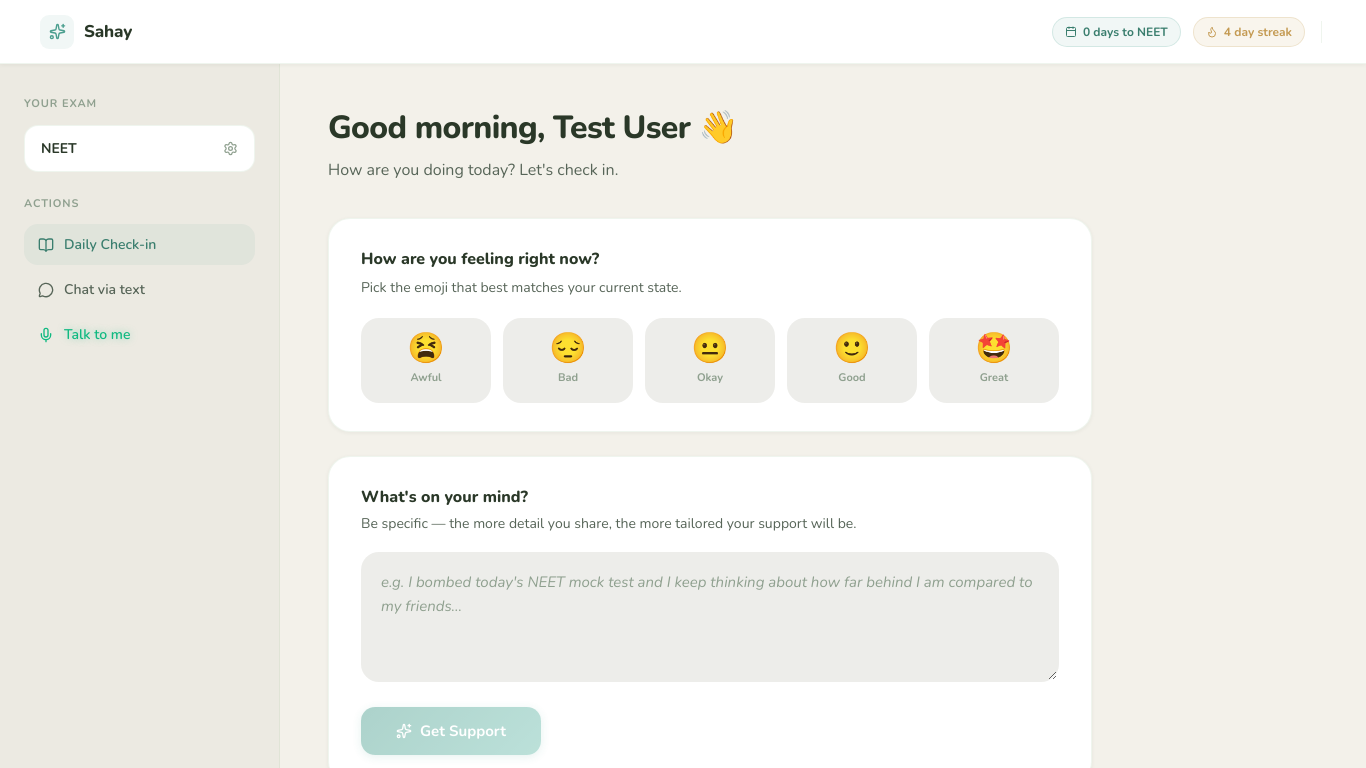
it: SahayApp Main Dashboard › handles clicking the Chat via text button
Click the button "Chat via text" at (140, 290), box [24,269,255,310]
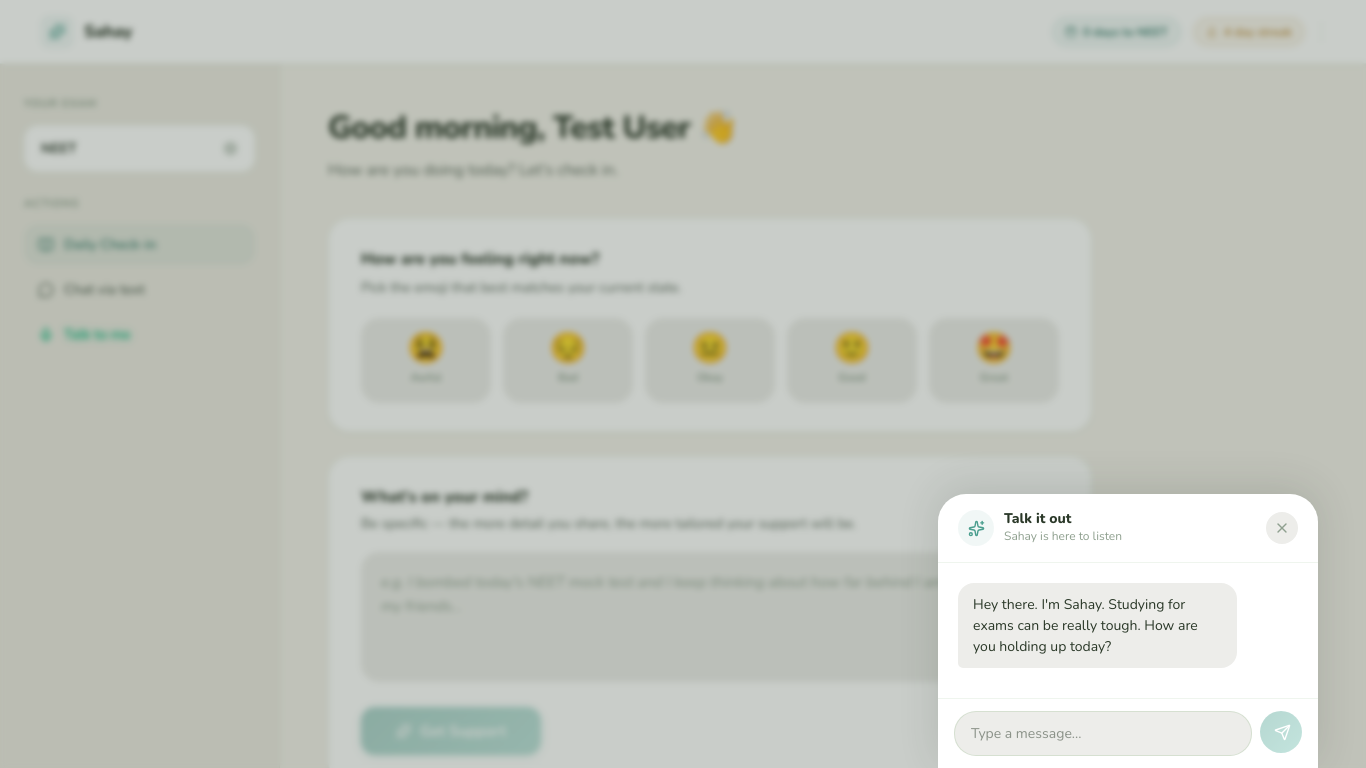
expect the field with placeholder "Type a message..." is shown: met, box [954,711,1252,756]
